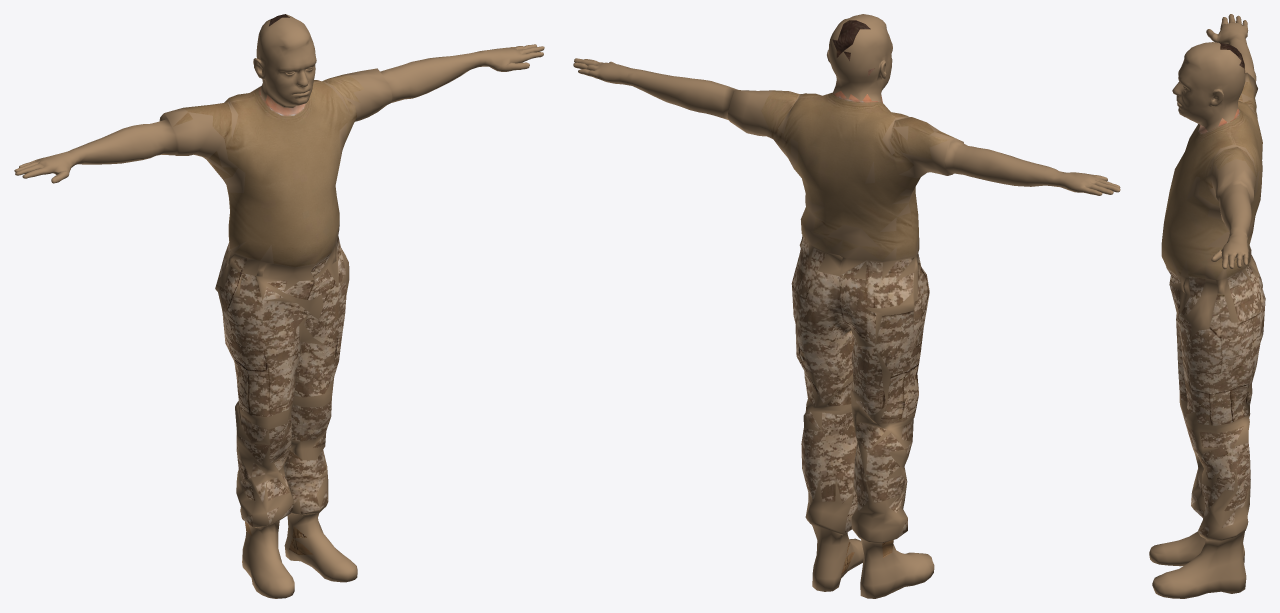
File: soldier.glb
3 views of the same model, side by side, from view 1: azimuth 30°, elevation 25°; view 2: azimuth 150°, elevation 25°; view 3: azimuth 270°, elevation 25° (orthographic). The views are drawn at different scales.
Parts seen in each view (by area): view 1: body; view 2: body; view 3: body.
Part boxes in pixels (x1,y1,x2,y2): body: [14, 14, 544, 598]; body: [573, 14, 1120, 598]; body: [1149, 14, 1265, 598].
Bounding box in the file's own units: 1.81 × 1.8 × 0.3558.
1 material, 1 textured.
